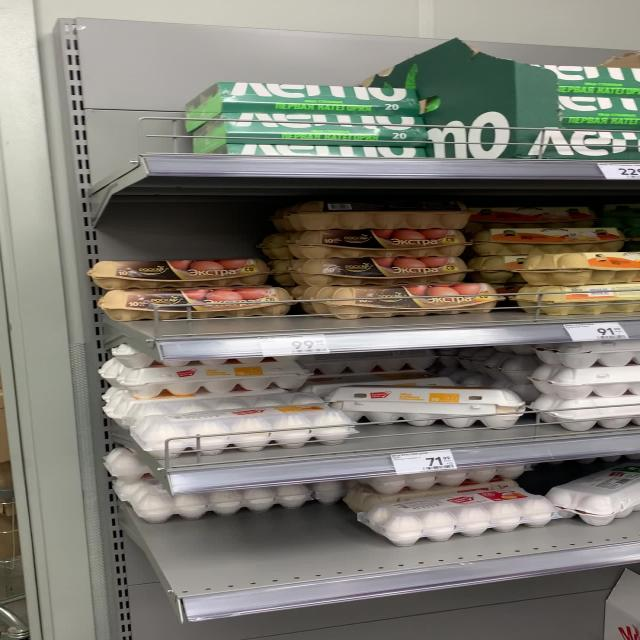egg box: (130, 403, 353, 457), (179, 82, 419, 132), (352, 486, 558, 544), (324, 384, 530, 430), (99, 355, 309, 397), (188, 111, 424, 147), (289, 283, 495, 316), (96, 286, 295, 320), (265, 228, 463, 260), (90, 258, 268, 291), (540, 466, 637, 526), (271, 260, 471, 287), (468, 228, 626, 256), (518, 283, 638, 315), (521, 252, 637, 284), (463, 204, 593, 230)
